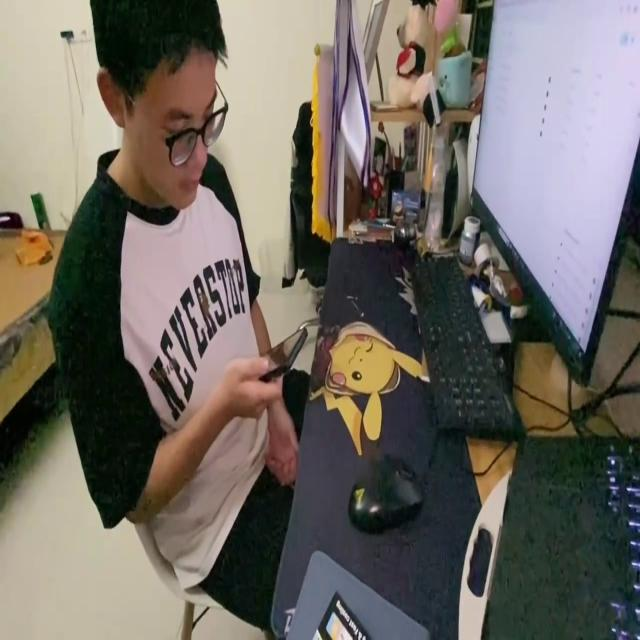laptop: (469, 0, 640, 393)
phone: (259, 322, 308, 374)
student: (47, 0, 312, 599)
